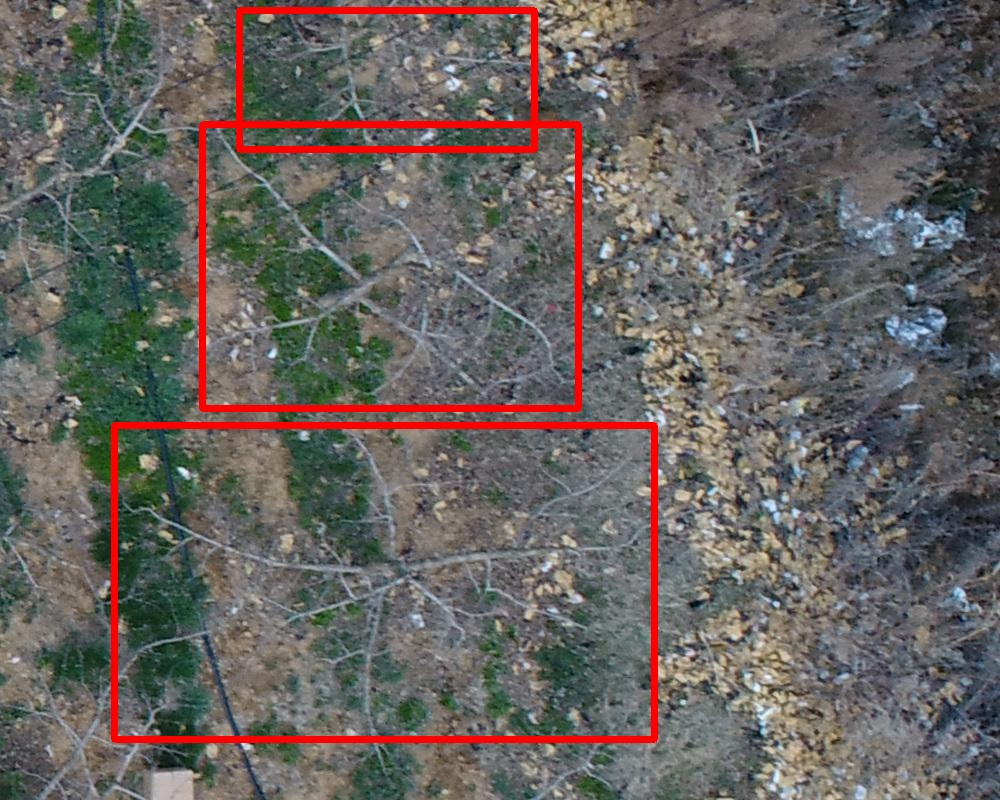apple: (114, 425, 654, 739), (202, 124, 578, 408), (239, 10, 534, 149)
